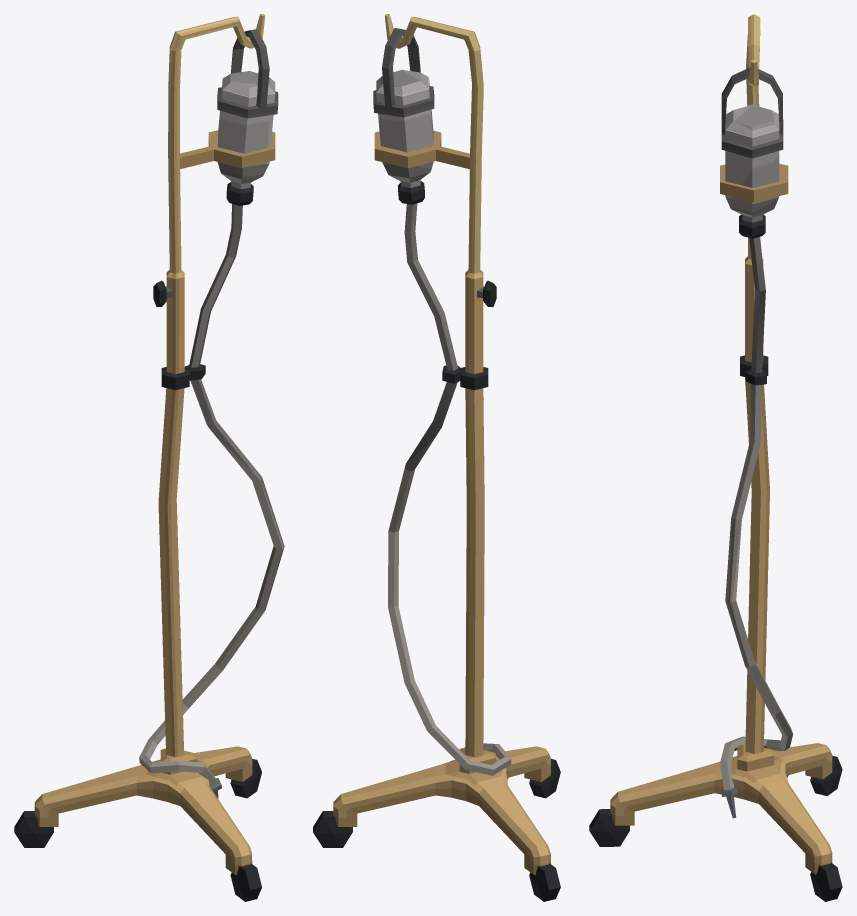
Rendered from SM_Prop_Stand_IV_02.fbx.
The picture shows the model from 3 angles, left to right: view 1: azimuth 30°, elevation 25°; view 2: azimuth 150°, elevation 25°; view 3: azimuth 270°, elevation 25°; orthographic projection. The views are drawn at different scales.
Parts seen in each view (by area): view 1: SM_Prop_Stand_IV_02; view 2: SM_Prop_Stand_IV_02; view 3: SM_Prop_Stand_IV_02.
Part boxes in pixels (<box>): SM_Prop_Stand_IV_02: <box>14,14,284,901</box>; SM_Prop_Stand_IV_02: <box>313,14,560,901</box>; SM_Prop_Stand_IV_02: <box>589,14,842,901</box>.
Size of the model in its own units: 63.98 by 201 by 55.41.
